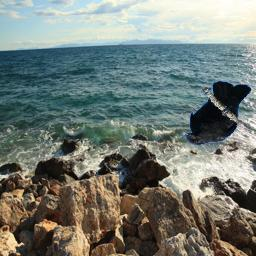Crow: (181, 81, 251, 146)
